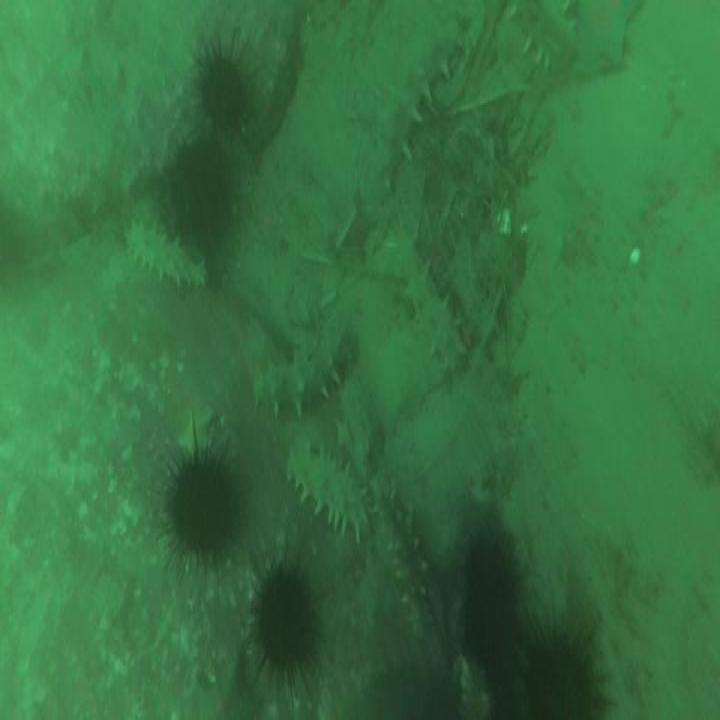echinus: (465, 537, 521, 670), (167, 450, 235, 556), (171, 146, 235, 247), (260, 571, 317, 670), (528, 633, 592, 720), (202, 50, 246, 130)
holothurian: (370, 27, 464, 197), (372, 474, 435, 642), (395, 236, 459, 366), (287, 446, 367, 542), (125, 224, 207, 292), (253, 364, 330, 421)
starfish: (576, 2, 645, 73)
